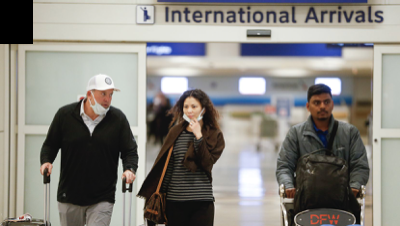mask_weared_incorrect: (91, 89, 114, 111), (183, 102, 203, 122)
without_mask: (310, 96, 333, 119)
